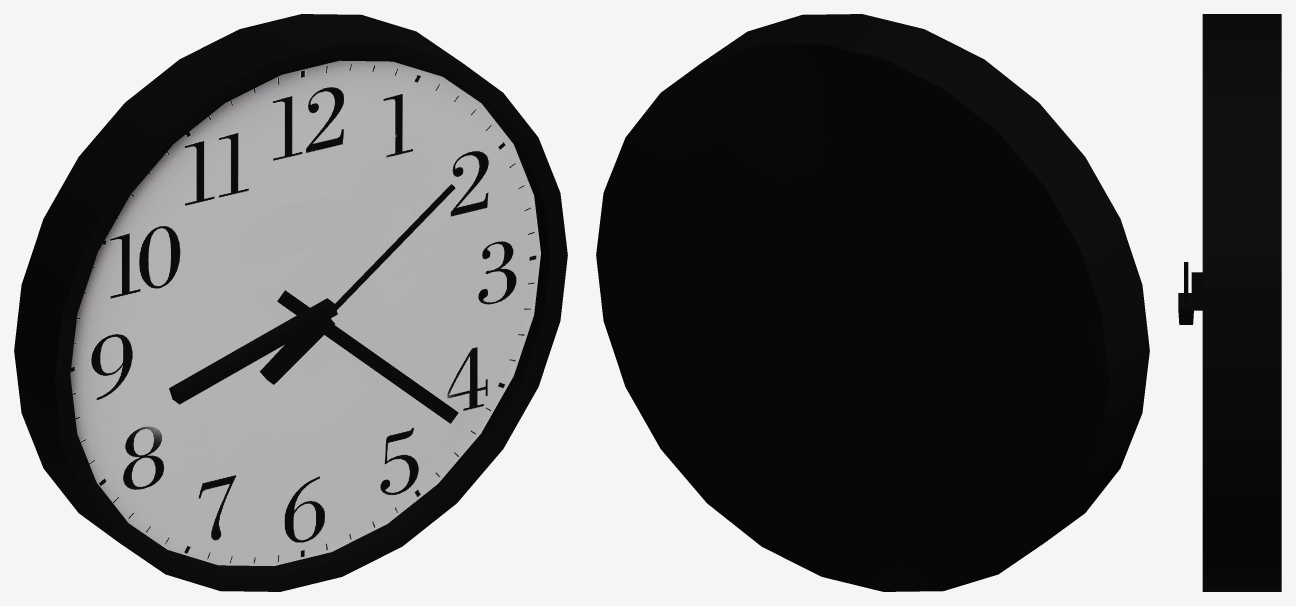
The model's file is Clock.FBX.
3 views of the same model, side by side, from view 1: azimuth 30°, elevation 25°; view 2: azimuth 150°, elevation 25°; view 3: azimuth 270°, elevation 25° (orthographic). The views are drawn at different scales.
Parts seen in each view (by area): view 1: Clock, hour, sec, min; view 2: Clock; view 3: Clock, sec, hour.
Boxes of the visible parts, left/top/right/bottom form: Clock: left=14, top=14, right=567, bottom=591; hour: left=169, top=298, right=337, bottom=404; sec: left=260, top=184, right=455, bottom=384; min: left=277, top=290, right=458, bottom=423; Clock: left=596, top=14, right=1149, bottom=591; Clock: left=1202, top=14, right=1281, bottom=591; sec: left=1178, top=262, right=1194, bottom=324; hour: left=1191, top=272, right=1202, bottom=310.
Bounding box in the file's own units: 11.31 × 11.22 × 2.02.
